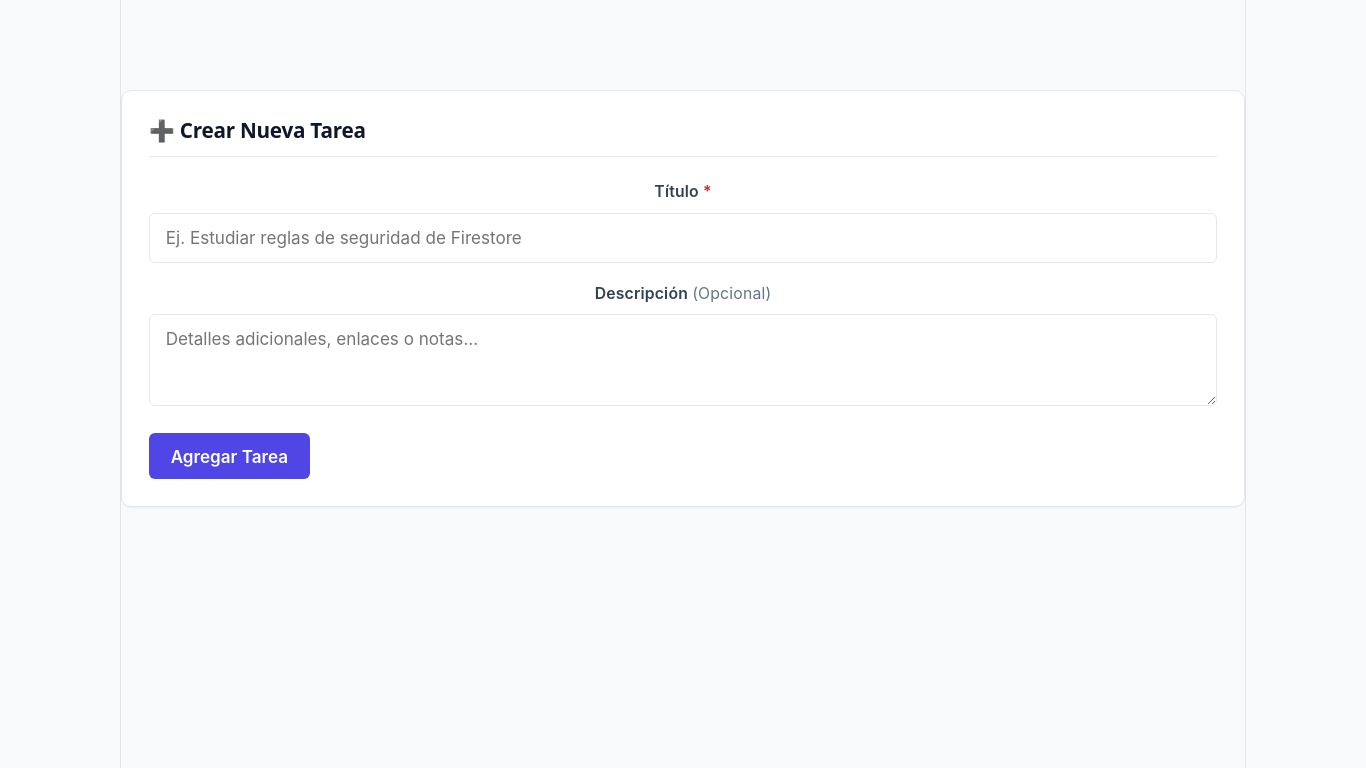
Scenario: TaskForm Component › muestra un error cuando se intenta enviar el formulario con el título vacío
What coordinates should you click on to do the following:
click the button "Agregar Tarea"
I would click on:
 (229, 456)
Its box is [149,433,310,479].
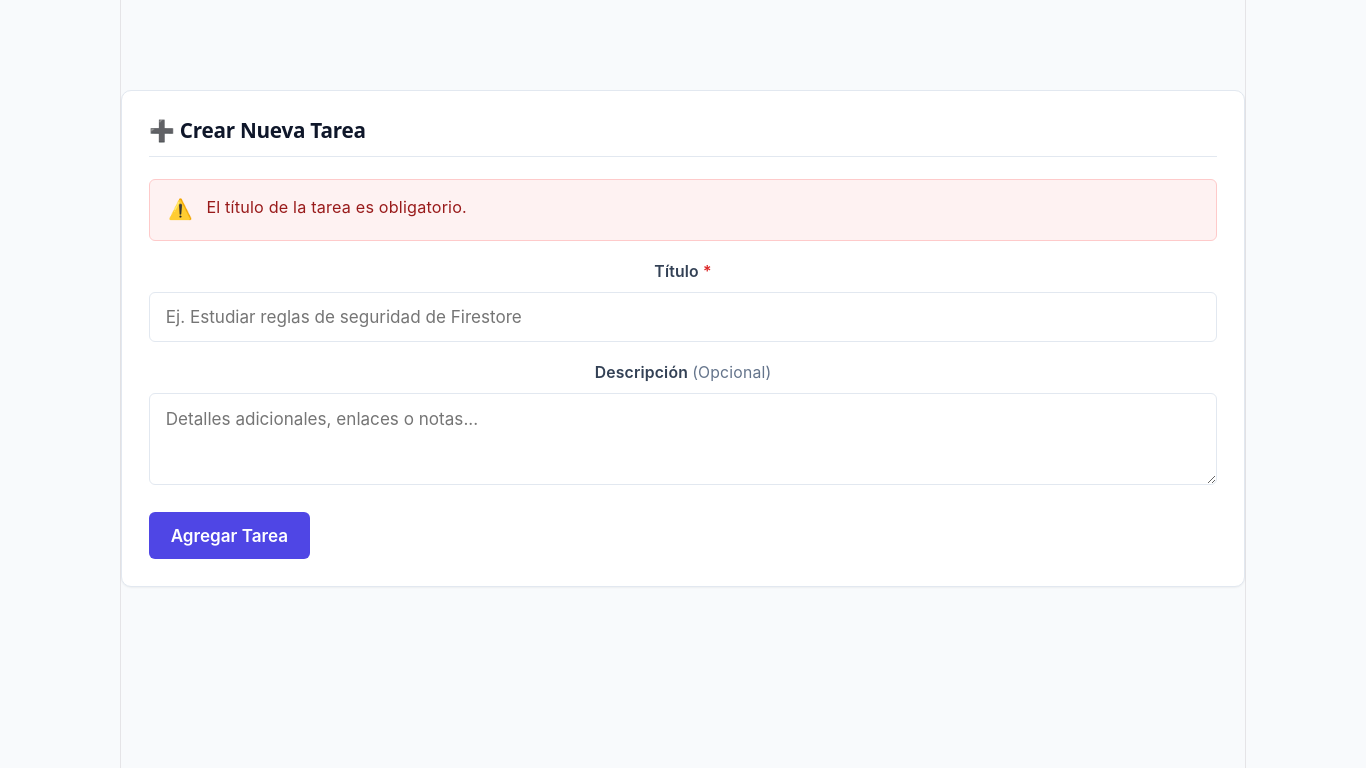
Check: the message shows "El título de la tarea es obligatorio.", box [206,197,467,217]
